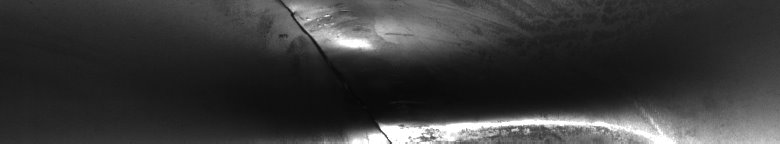ke: (246, 4, 684, 136)
